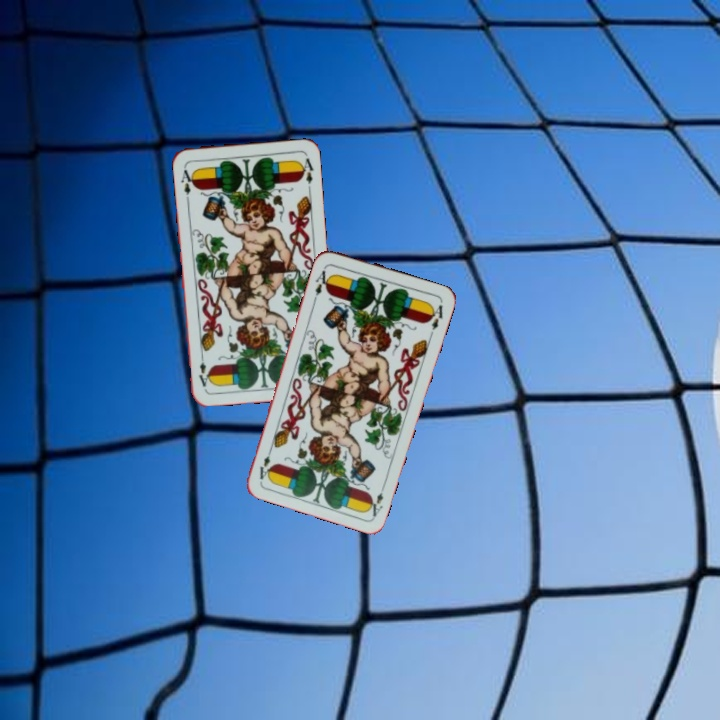EA: (364, 479, 388, 519), (310, 263, 333, 303), (177, 162, 197, 203)
